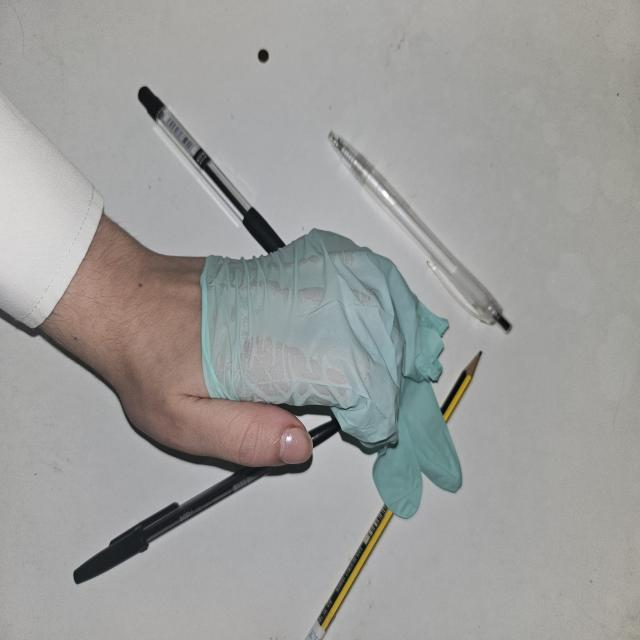glove_partial: (112, 227, 466, 519)
